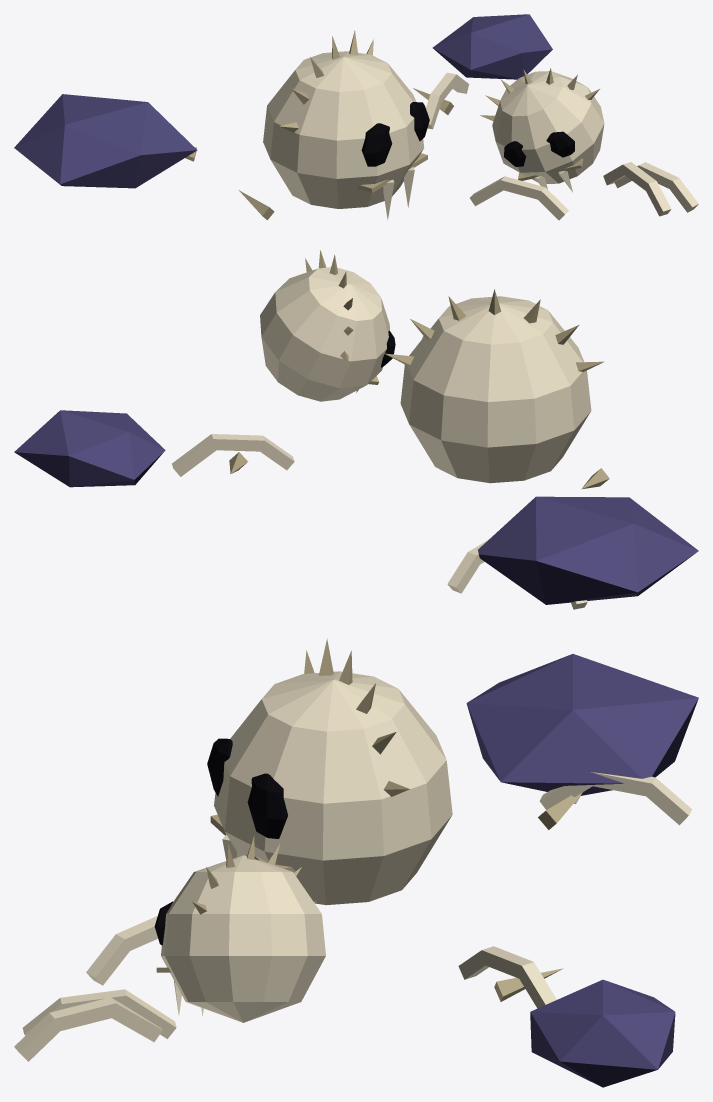
Rendered from Mine_PestBones.fbx.
The picture shows the model from 3 angles, top to bottom: view 1: azimuth 30°, elevation 25°; view 2: azimuth 150°, elevation 25°; view 3: azimuth 270°, elevation 25°; orthographic projection. The views are drawn at different scales.
Parts seen in each view (by area): view 1: Mine_PestBones_Body; view 2: Mine_PestBones_Body; view 3: Mine_PestBones_Body.
Part boxes in pixels (<box>): Mine_PestBones_Body: <box>14,14,698,220</box>; Mine_PestBones_Body: <box>14,250,698,609</box>; Mine_PestBones_Body: <box>14,638,698,1087</box>.
Bounding box in the file's own units: 1.5 × 0.4536 × 1.14.
